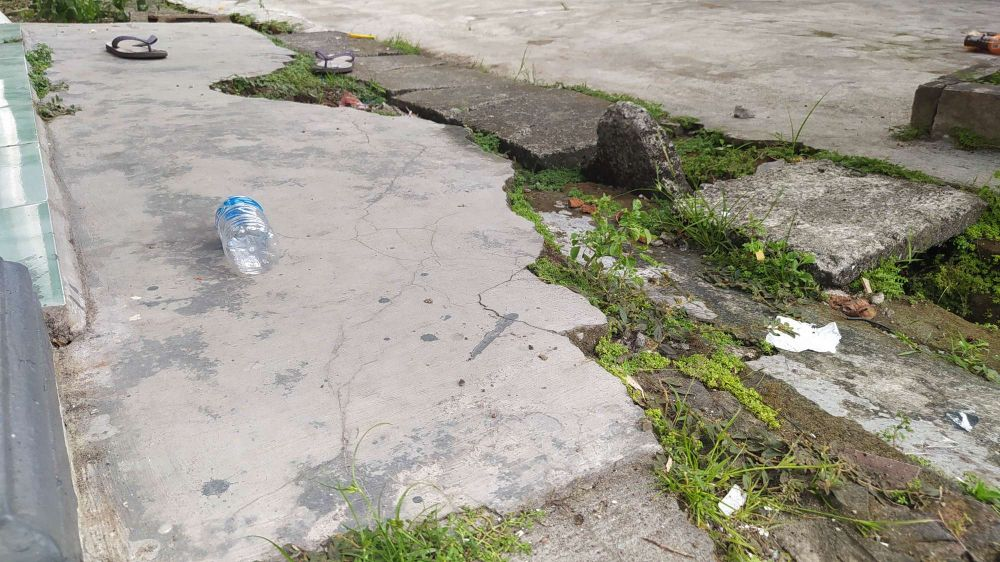botol: (200, 181, 295, 275)
